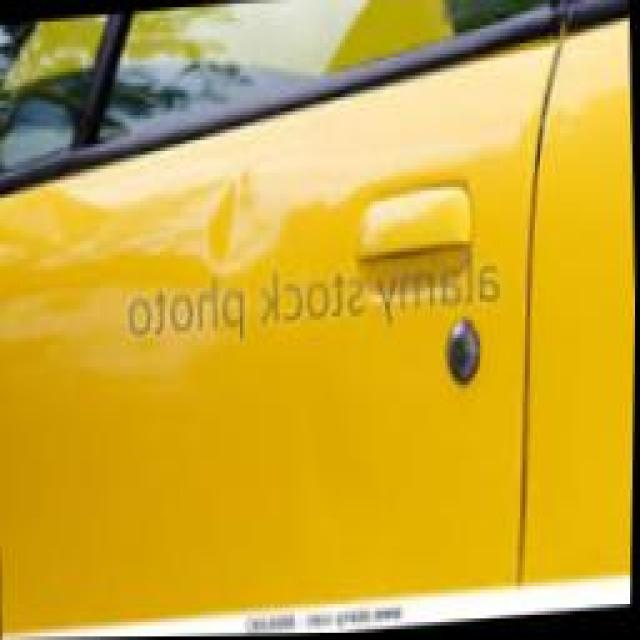Door: (161, 125, 306, 287)
